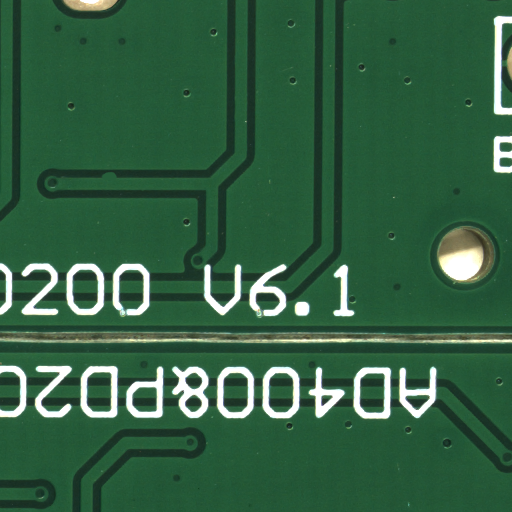Spur: (108, 173, 125, 181)
